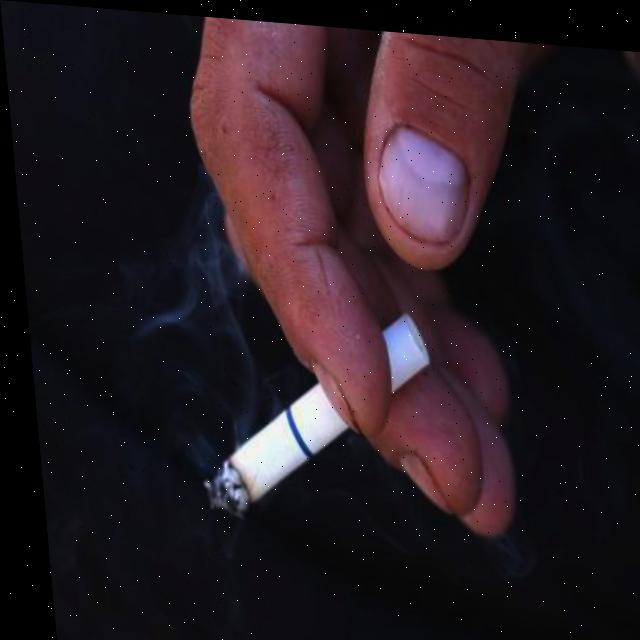cigarette: (177, 288, 440, 538)
